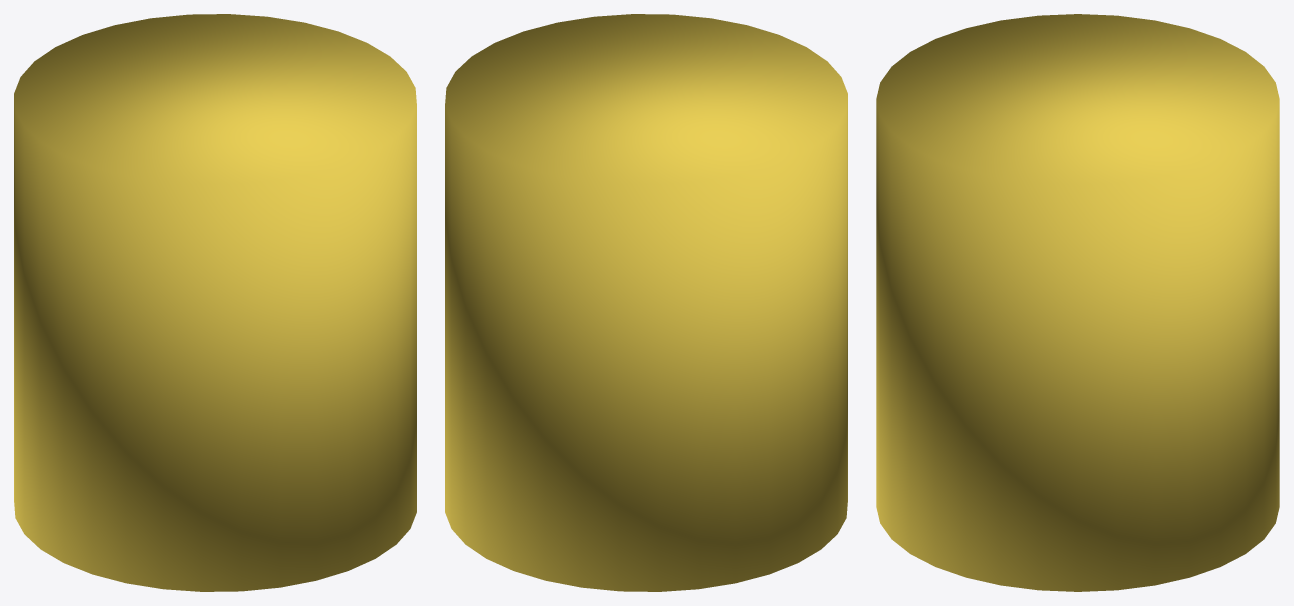
Rendered from superGlowFluid.glb.
The picture shows the model from 3 angles, left to right: view 1: azimuth 30°, elevation 25°; view 2: azimuth 150°, elevation 25°; view 3: azimuth 270°, elevation 25°; orthographic projection.
Visible parts, largest first — view 1: Cylinder.004; view 2: Cylinder.004; view 3: Cylinder.004.
Boxes of the visible parts, x1,y1,x2,y2 form: Cylinder.004: (14, 14, 416, 591); Cylinder.004: (445, 14, 847, 591); Cylinder.004: (876, 14, 1279, 591).
Size of the model in its own units: 0.343 by 0.3822 by 0.343.
